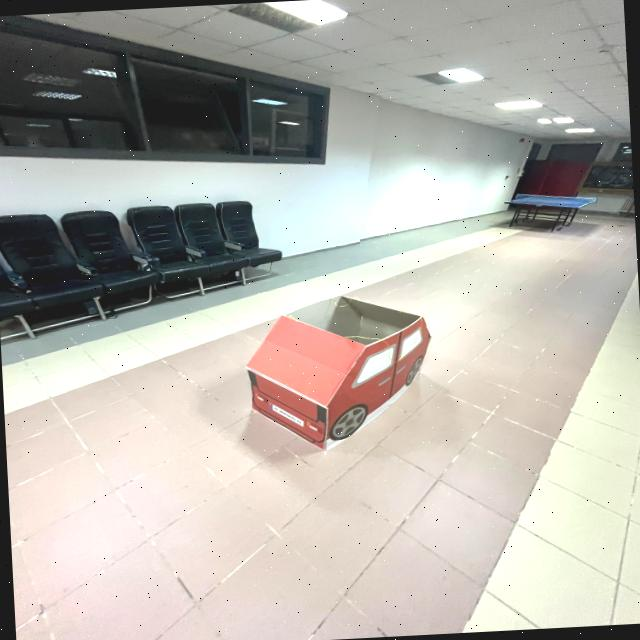red_car: (229, 280, 468, 474)
